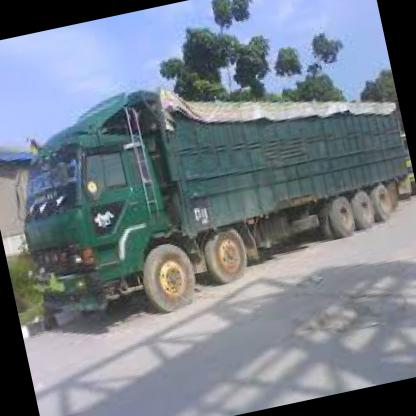truck: (6, 114, 197, 345)
